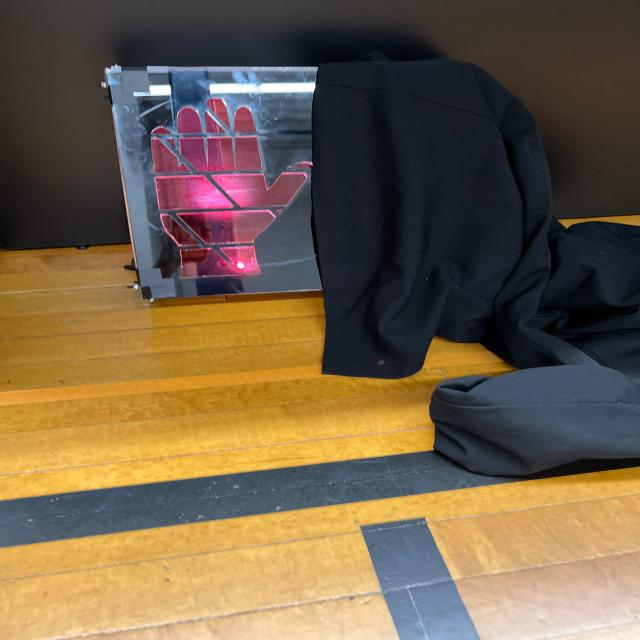stop: (111, 75, 325, 300)
